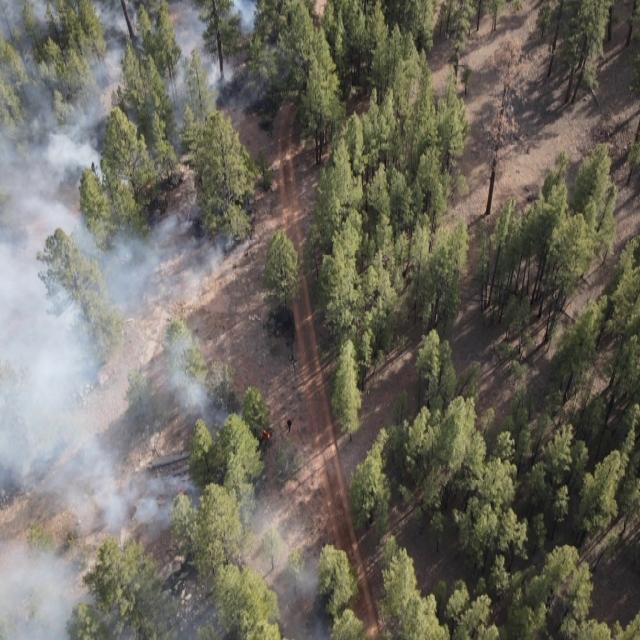fire: (254, 419, 276, 448), (168, 478, 192, 504), (142, 173, 158, 196), (210, 226, 218, 238)
smoke: (0, 447, 331, 640), (0, 0, 299, 202), (0, 203, 255, 324), (0, 325, 233, 447)
